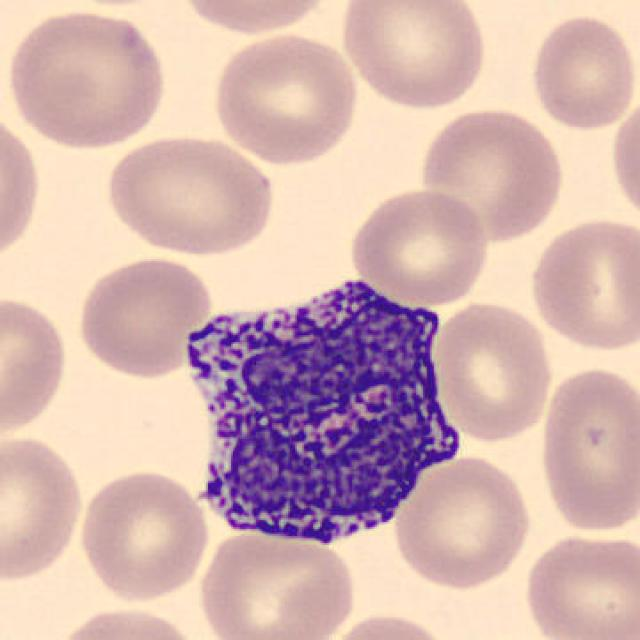Basophil: (172, 261, 473, 557)
RBC: (2, 5, 170, 152), (100, 131, 279, 259), (208, 28, 363, 168), (416, 102, 567, 245), (389, 452, 535, 592), (193, 523, 359, 640), (75, 464, 212, 604), (428, 296, 556, 444), (73, 252, 215, 381), (535, 361, 638, 536), (347, 185, 492, 307), (336, 0, 491, 111), (524, 213, 638, 356), (0, 430, 87, 586), (519, 529, 640, 640), (526, 11, 636, 132), (0, 291, 71, 439), (0, 109, 44, 266), (174, 0, 340, 39), (52, 603, 205, 640), (608, 92, 640, 229), (320, 610, 459, 640)
